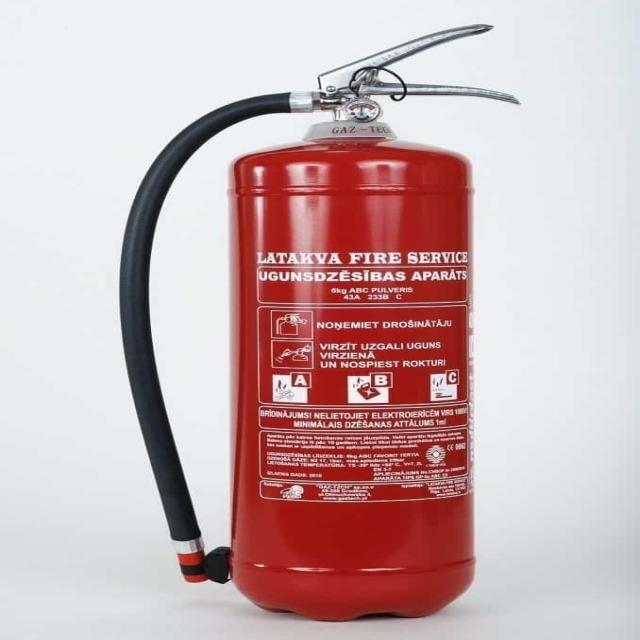fire_extinguisher: (110, 20, 524, 626)
